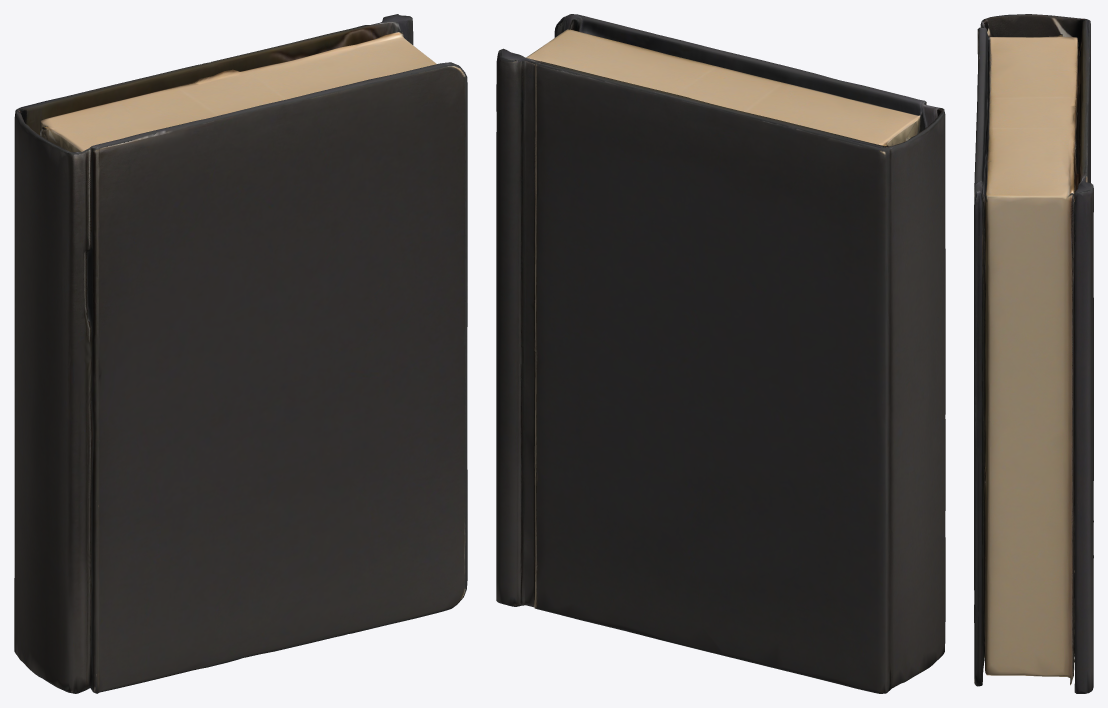
3 renders of one model, left to right at view 1: azimuth 30°, elevation 25°; view 2: azimuth 150°, elevation 25°; view 3: azimuth 270°, elevation 25°, orthographic. The views are drawn at different scales.
Size of the model in its own units: 1.55 by 2 by 0.4342.
1 material, 1 textured.
